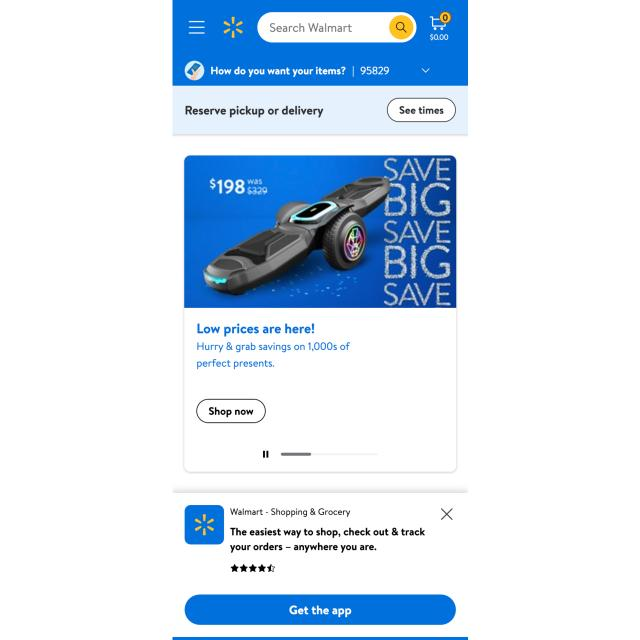CheckBox: (182, 594, 456, 626), (195, 397, 268, 425), (386, 97, 456, 123)
Input field: (195, 340, 350, 371)
Spinner: (181, 150, 458, 475)
alert: (357, 64, 436, 80)
bag: (172, 0, 467, 86)
breadcrumbs: (230, 524, 426, 554), (183, 103, 326, 119), (193, 320, 318, 338)
card: (182, 153, 457, 308)
carousel: (428, 11, 450, 32), (186, 18, 207, 38), (437, 503, 456, 523), (393, 20, 410, 35), (265, 562, 278, 575), (260, 447, 271, 461), (229, 563, 239, 574), (248, 562, 257, 574)
content: (182, 58, 207, 82)
copy: (184, 154, 456, 308)
date picker: (190, 509, 219, 540), (219, 14, 247, 41)
decoration: (183, 15, 211, 40)
header: (166, 484, 470, 638)
heading: (278, 449, 384, 458)
